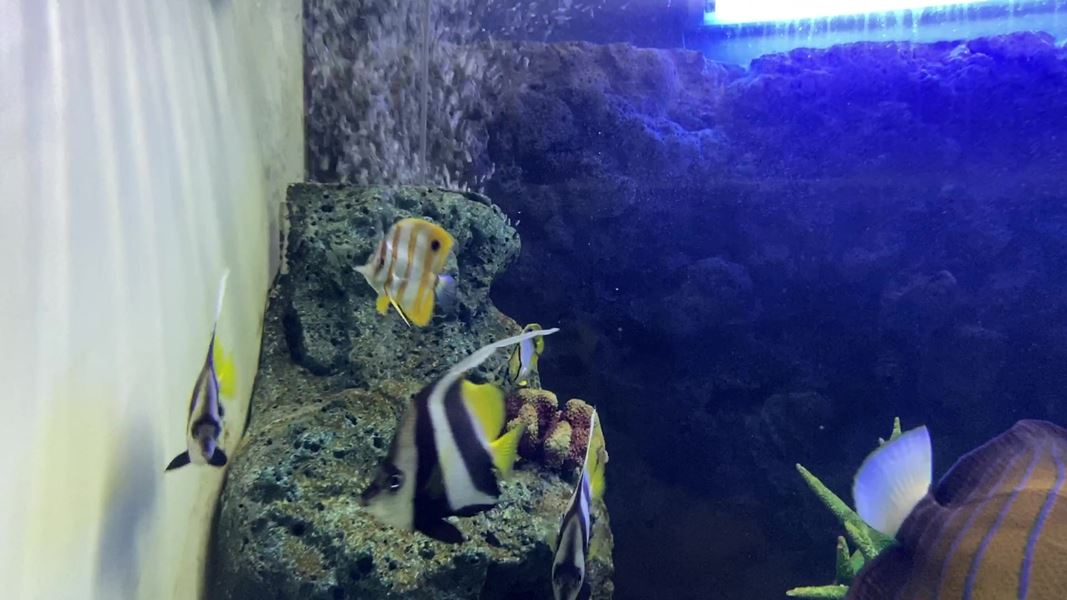Black-backed butterflyfish: (497, 318, 553, 395)
